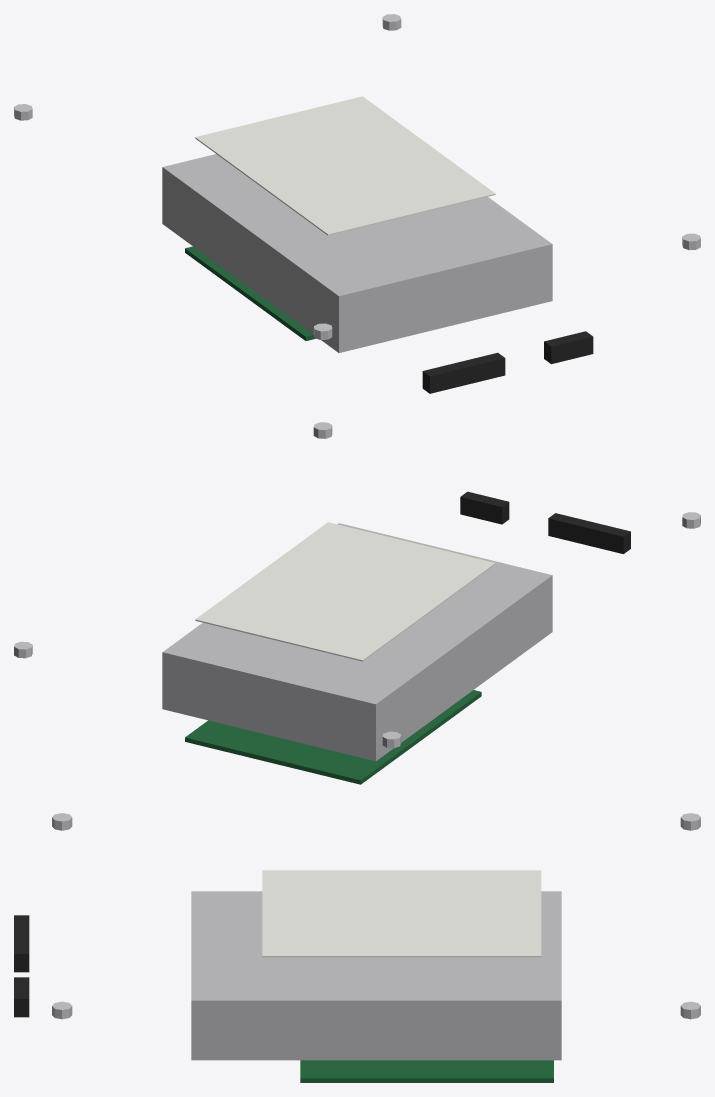
The model's file is prop_hard_drive.glb.
3 renders of one model, top to bottom at view 1: azimuth 30°, elevation 25°; view 2: azimuth 150°, elevation 25°; view 3: azimuth 270°, elevation 25°, orthographic. The views are drawn at different scales.
Parts seen in each view (by area): view 1: prop_hard_drive; view 2: prop_hard_drive; view 3: prop_hard_drive.
Boxes of the visible parts, left/top/right/bottom form: prop_hard_drive: left=14, top=14, right=700, bottom=393; prop_hard_drive: left=14, top=422, right=700, bottom=784; prop_hard_drive: left=14, top=813, right=700, bottom=1082.
Size of the model in its own units: 0.092 by 0.0275 by 0.1355.
